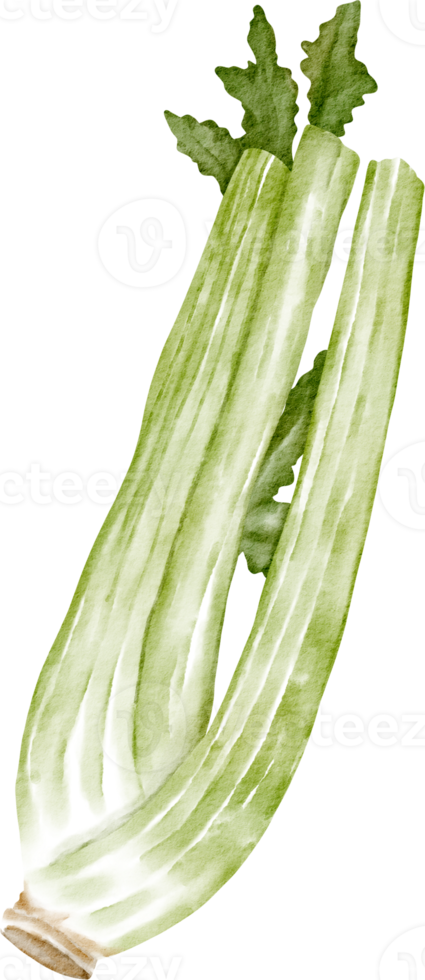Seledri: (18, 29, 425, 980)
